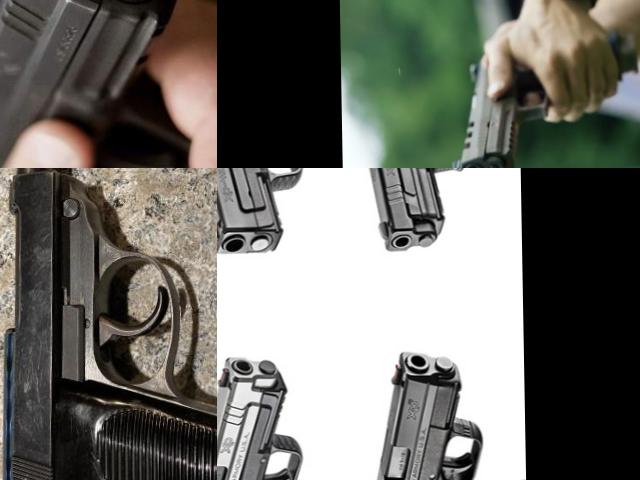handgun: (0, 168, 217, 480), (0, 0, 211, 168), (445, 23, 640, 168), (355, 344, 526, 480), (217, 348, 357, 480), (341, 168, 522, 253), (217, 168, 341, 254)
